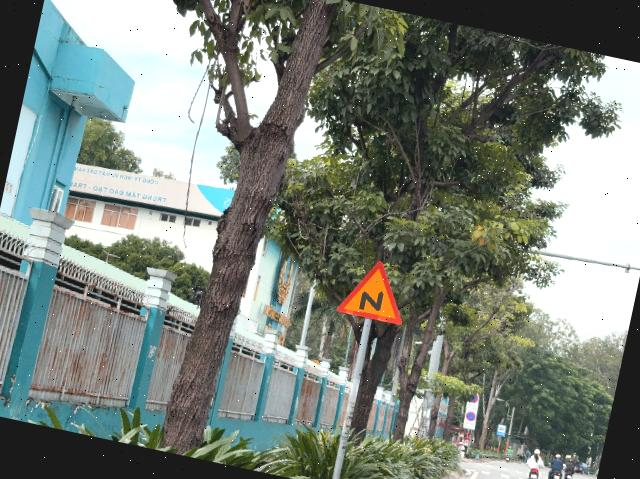nhieu-cho-ngoat-nguy-hiem-lien-tiep: (336, 255, 414, 326)
